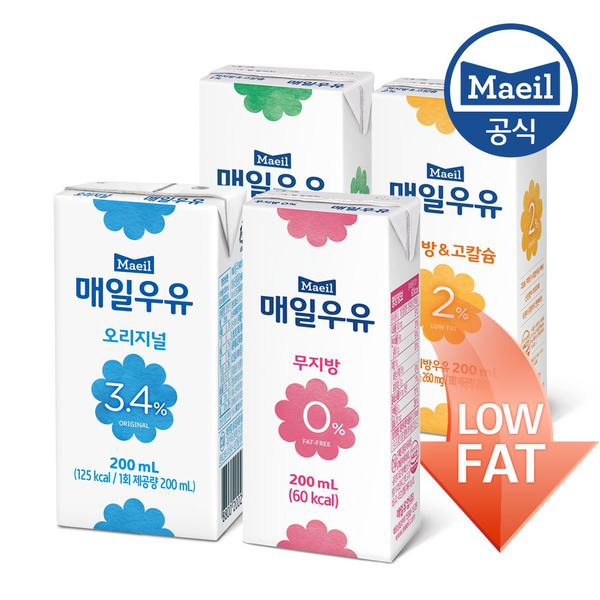milk: (52, 177, 419, 563), (201, 63, 549, 435)
